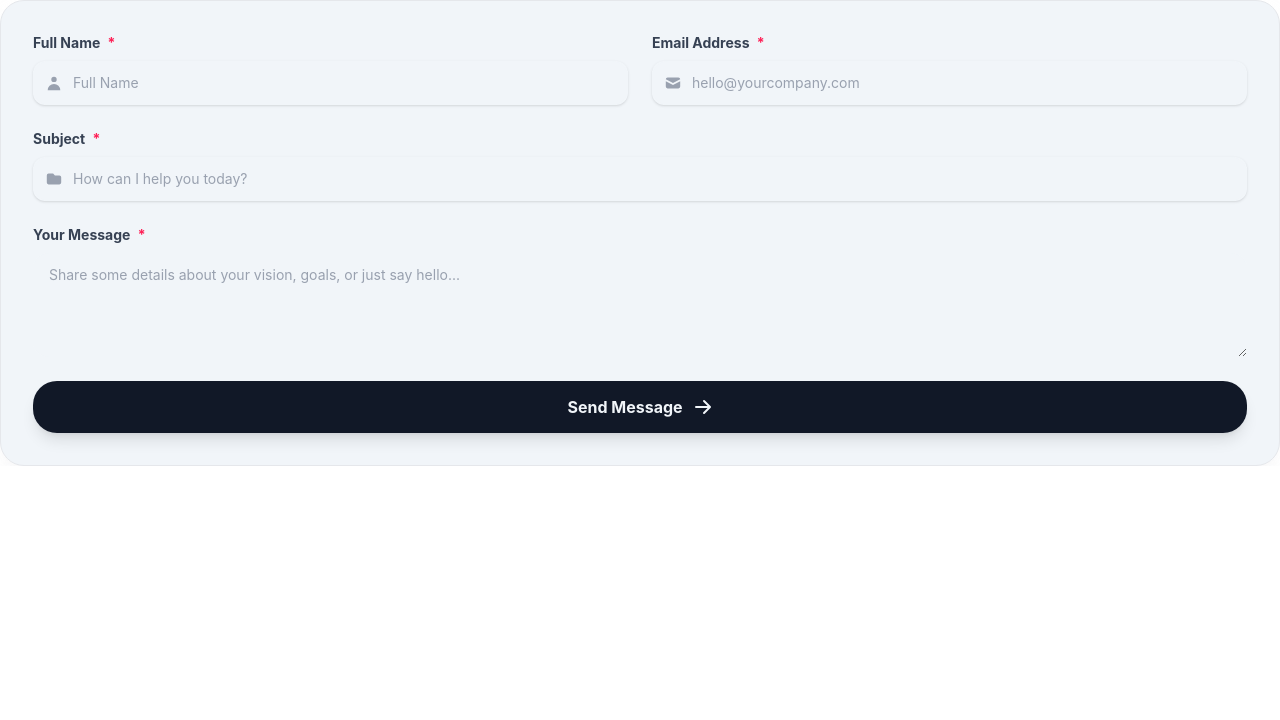
Test: ContactForm › shows validation error for invalid email
Step 1. Type "John Doe" into the field labelled "Full Name *" → [330, 83], box [33,61,628,105]
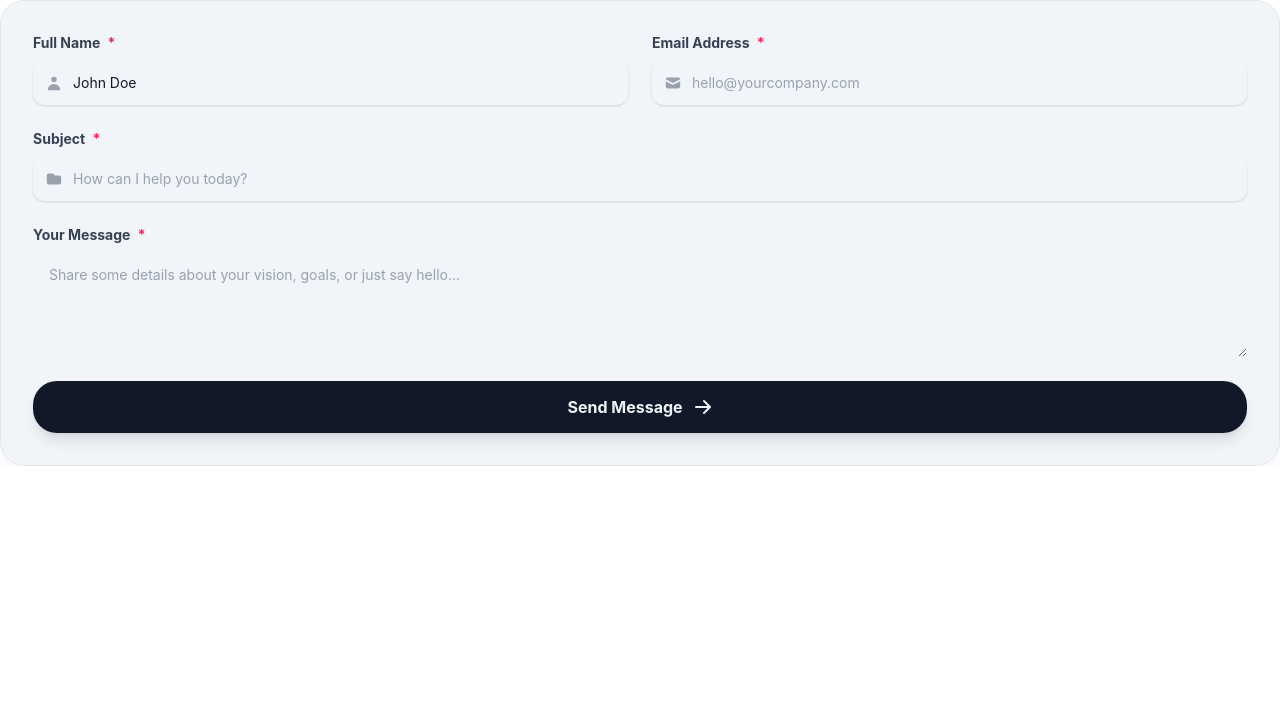
Step 2. Type "invalid-email" into the field labelled "Email Address *" → [950, 83], box [652,61,1247,105]
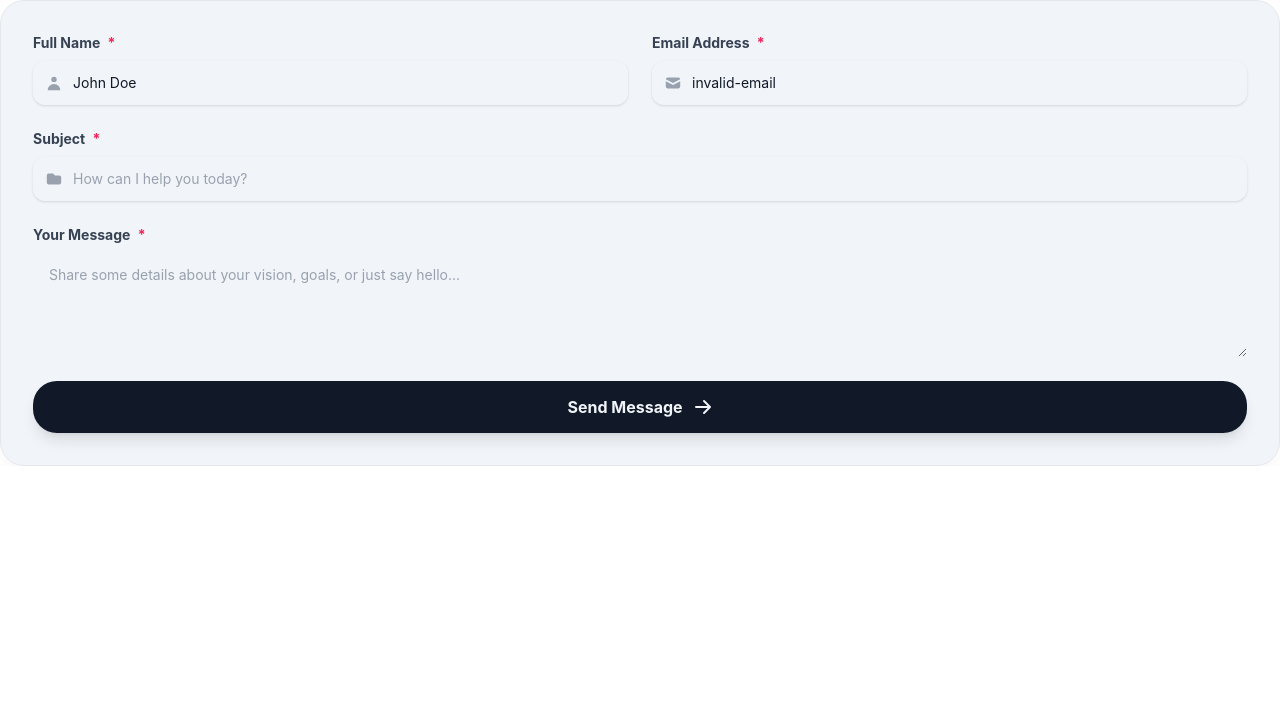
Step 3. Type "Test Subject" into the field labelled "Subject *" → [640, 179], box [33,157,1247,201]
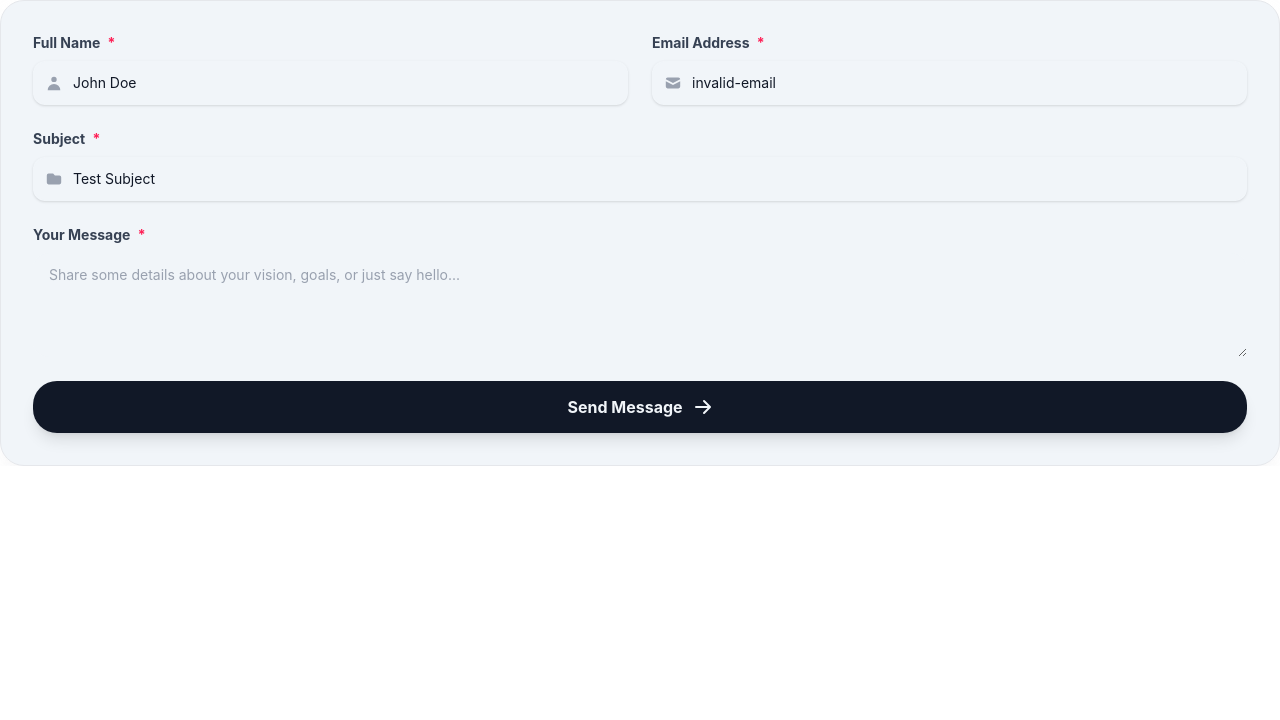
Step 4. Replace the text in the text box labelled "Your Message *" with "Test Message" → [640, 305], box [33,253,1247,357]
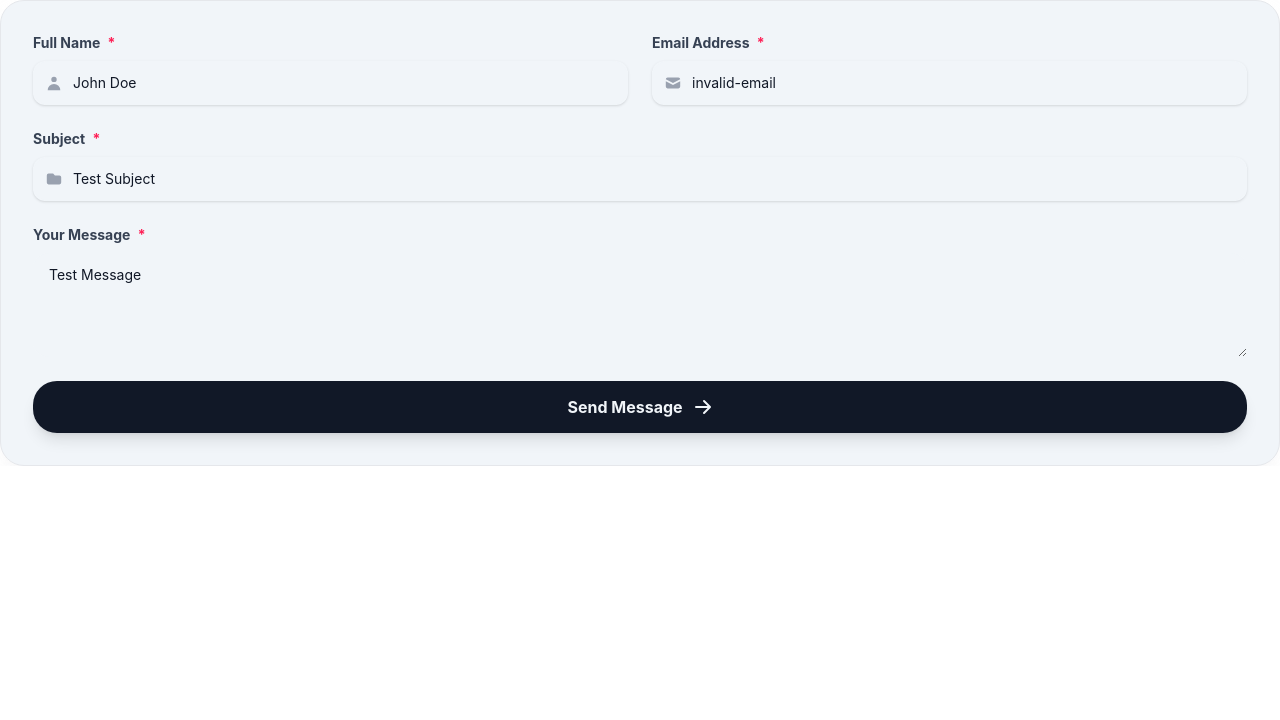
Step 5. Click the button "Send Message" → [640, 407], box [33,381,1247,433]
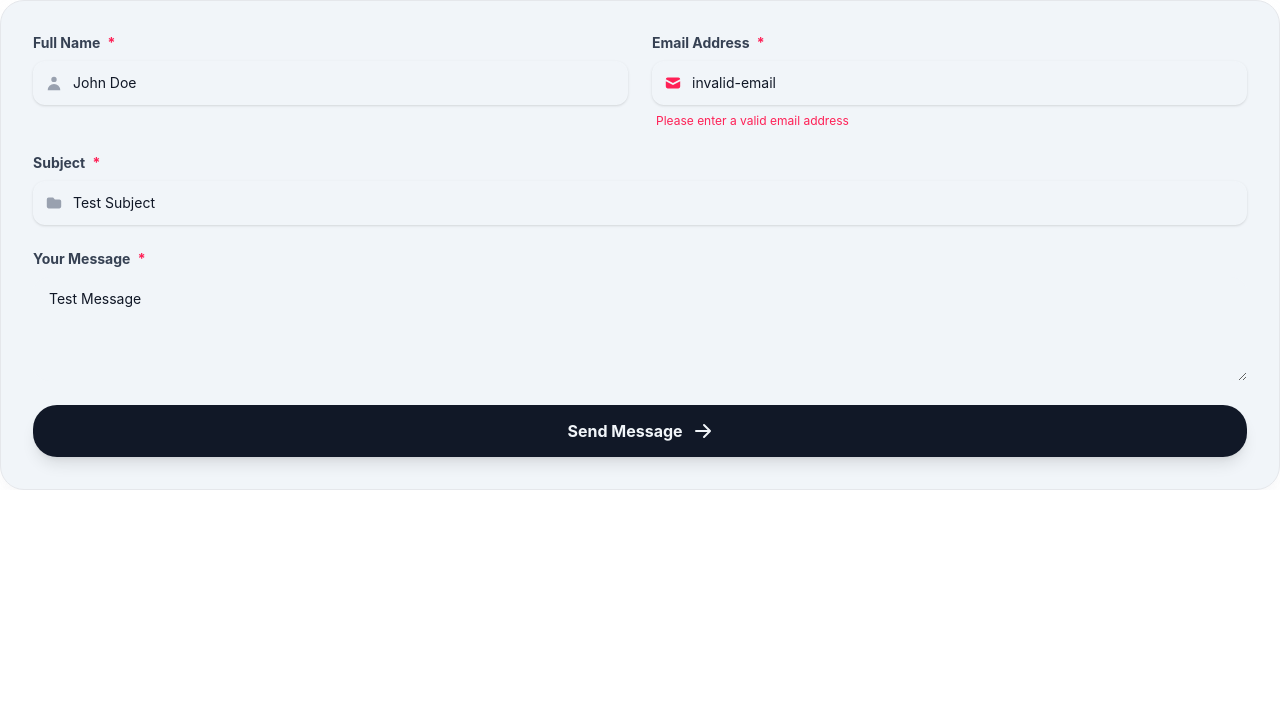
Now the text "Please enter a valid email address" is shown, box [656,113,849,128]
